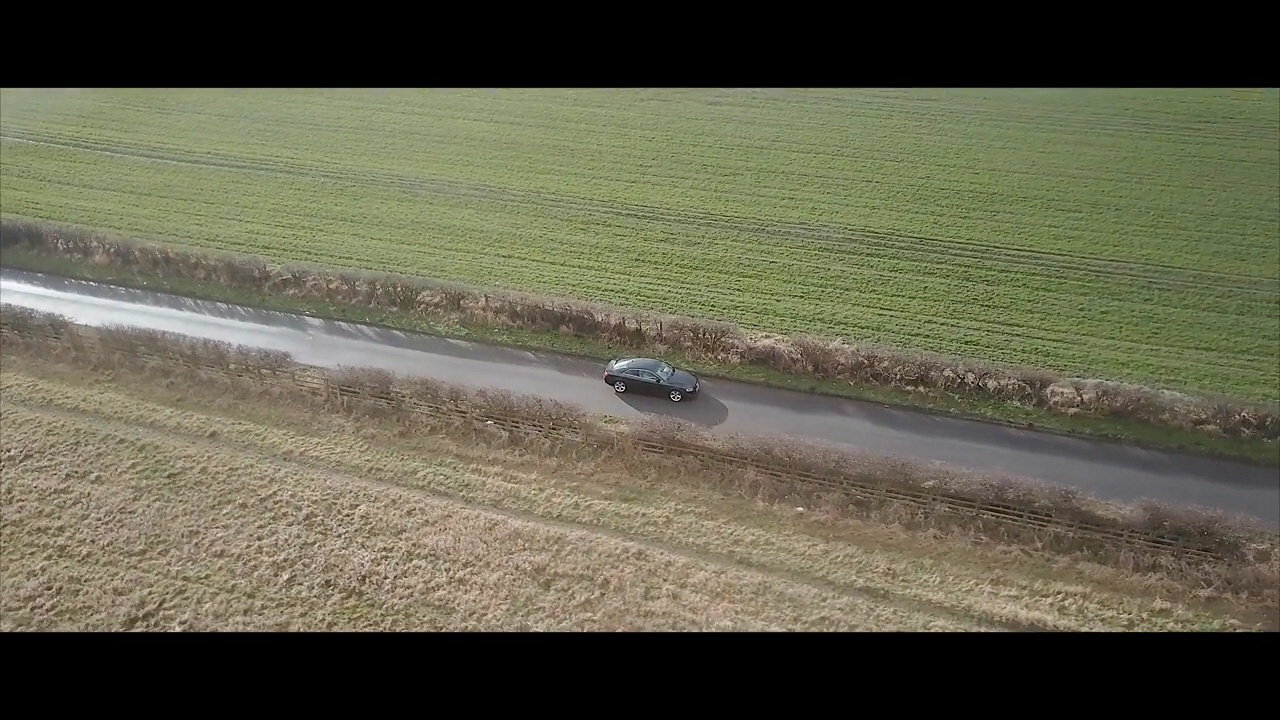araba: (595, 353, 702, 406)
